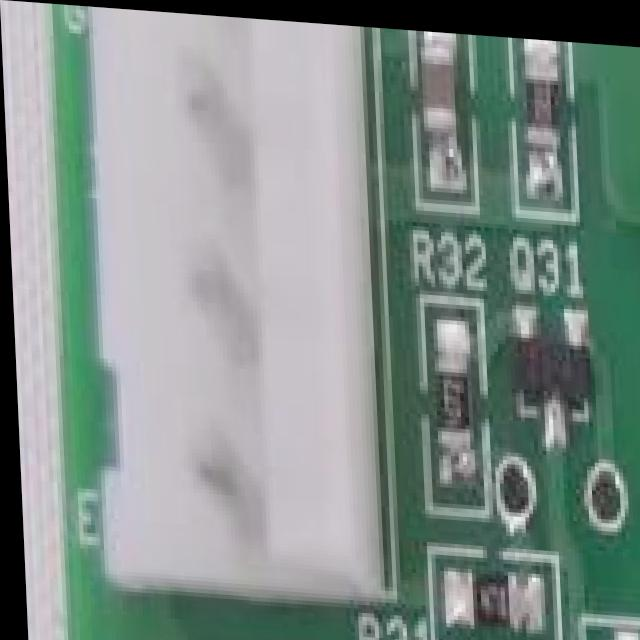capacitor: (412, 24, 466, 187)
connector: (100, 6, 385, 621)
diode: (580, 617, 640, 640)
resistor: (422, 300, 474, 485), (512, 30, 565, 189), (439, 564, 539, 640)
transistor: (493, 288, 612, 431)
